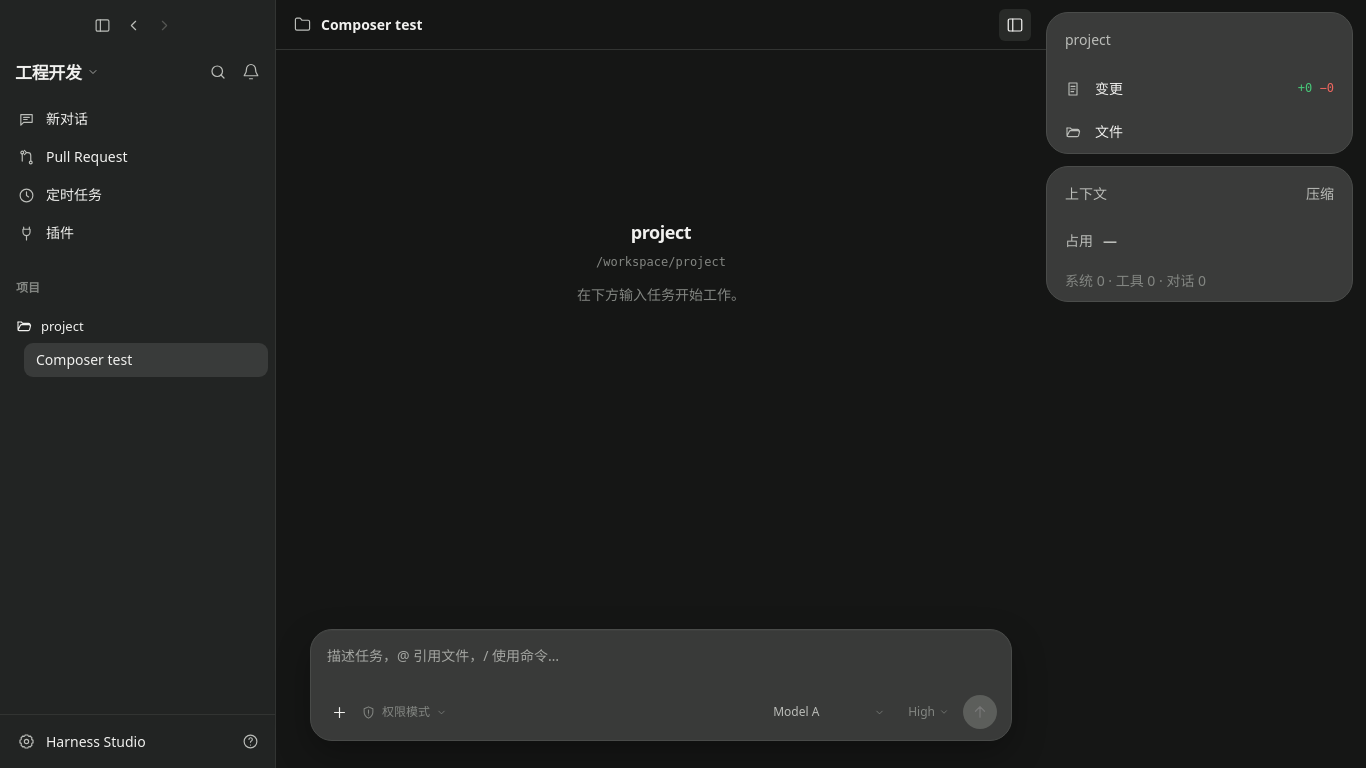
Test: structured composer entities › closes the model menu immediately while the Host applies the selected model
Click the button "Model A" at (828, 712), box [762,695,894,729]
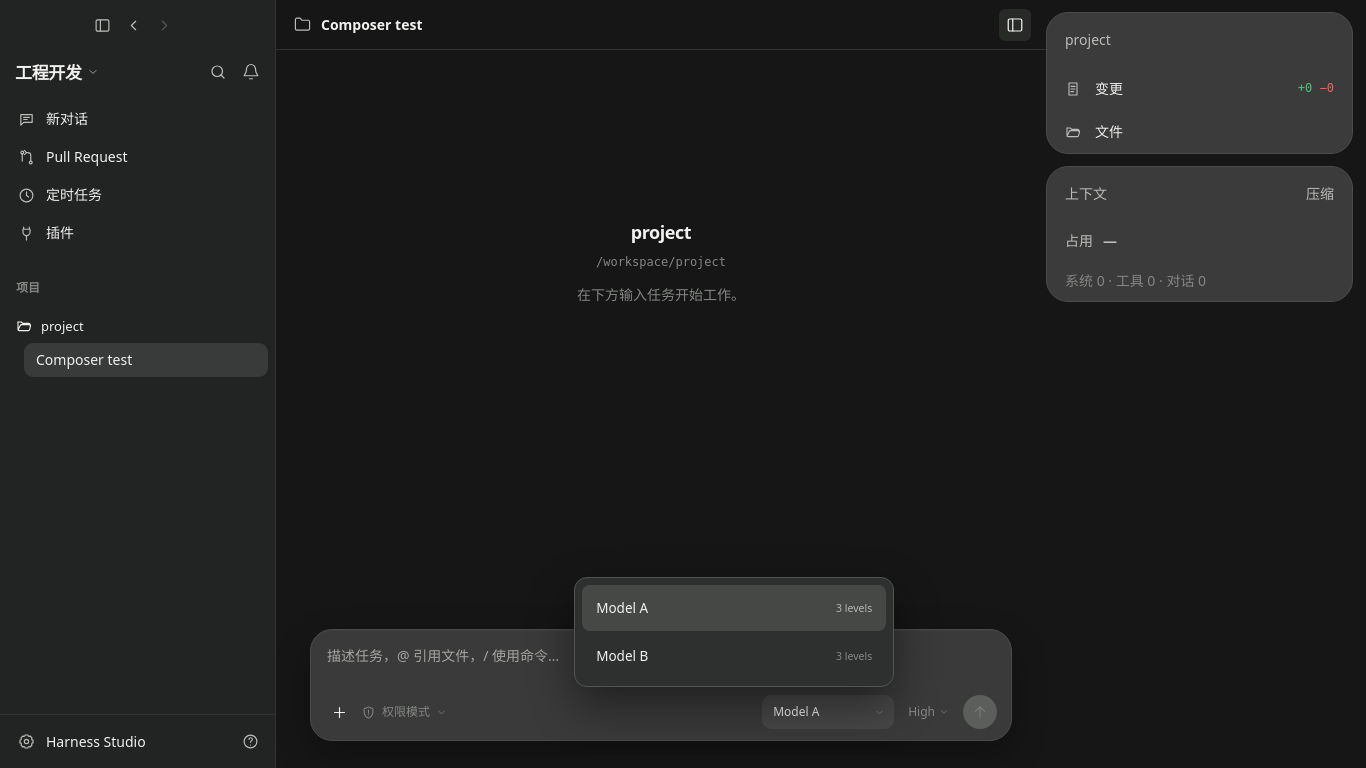
Click the button "Model B 3 levels" at (622, 656), box [582,633,886,679]
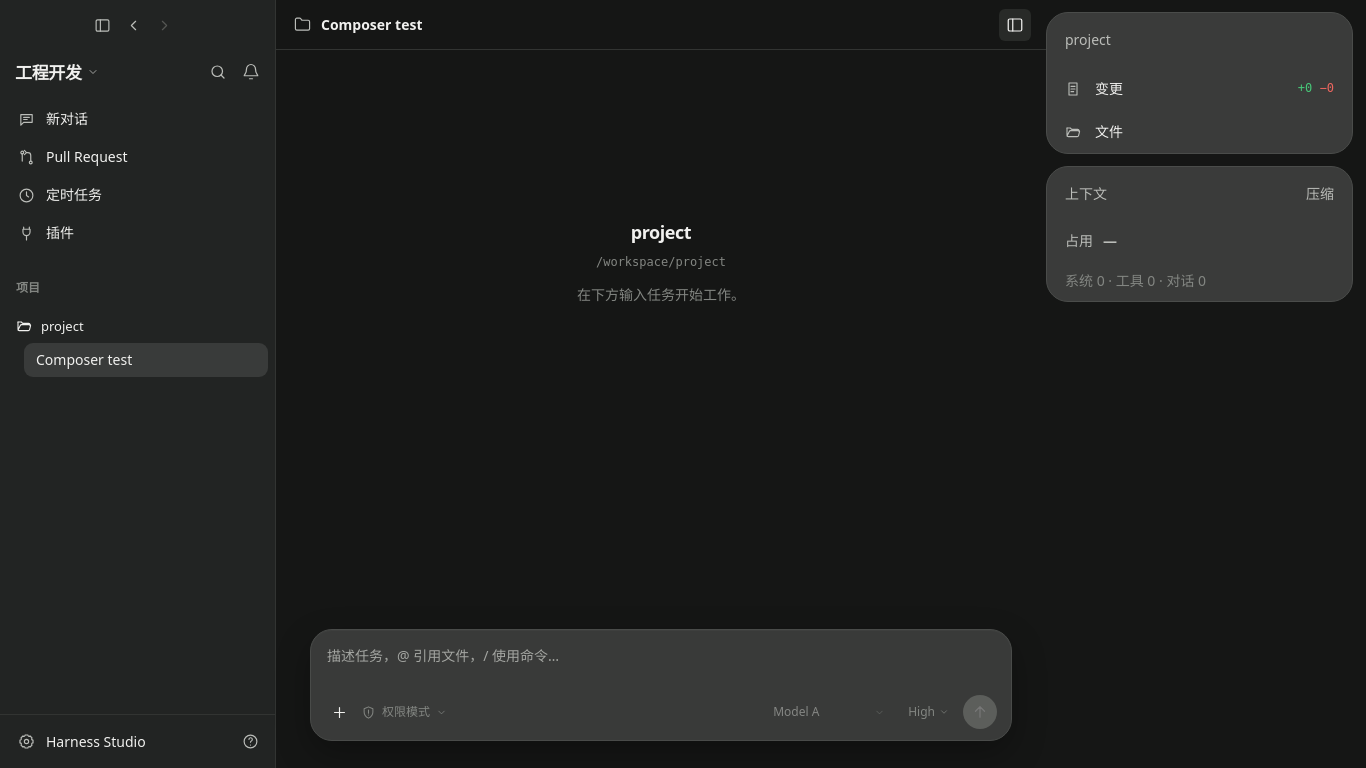
Result: the menu "模型列表" is gone
